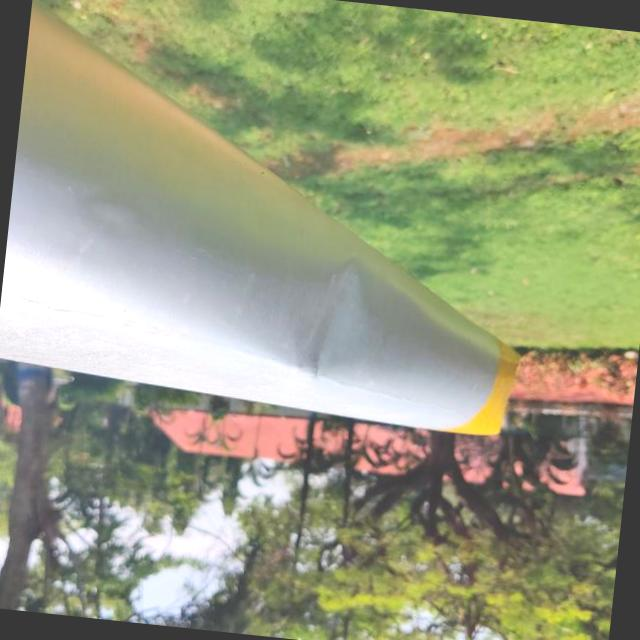dent: (274, 242, 400, 399)
